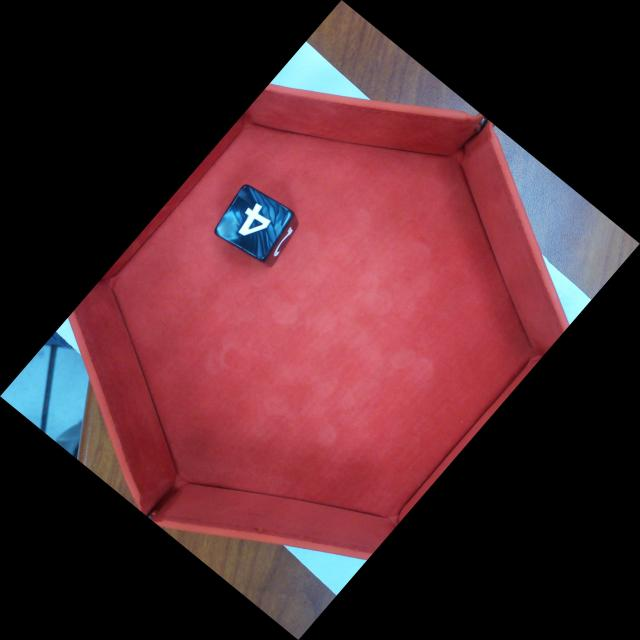dice: (214, 184, 294, 258)
